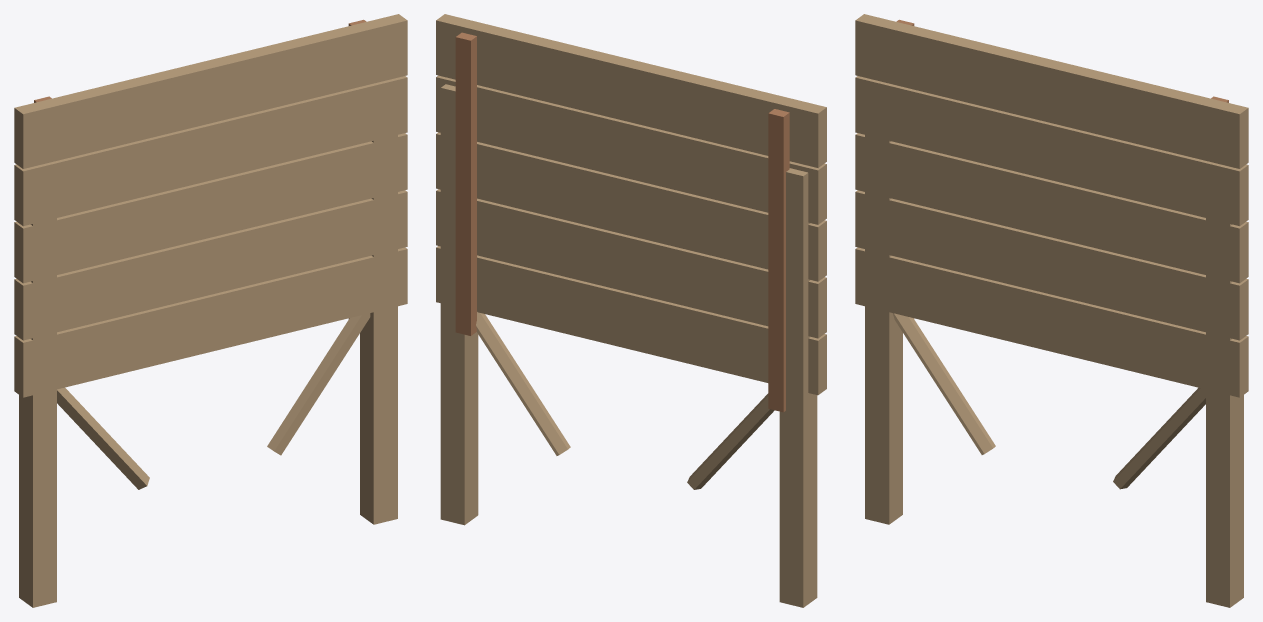
File: wipe-day-survival-island-wooden-sign-board-2a50386b__27473.glb
3 views of the same model, side by side, from view 1: azimuth 30°, elevation 25°; view 2: azimuth 150°, elevation 25°; view 3: azimuth 330°, elevation 25° (orthographic).
Parts seen in each view (by area): view 1: wooden-sign-board; view 2: wooden-sign-board; view 3: wooden-sign-board.
Boxes of the visible parts, x1,y1,x2,y2 form: wooden-sign-board: [14, 14, 407, 607]; wooden-sign-board: [436, 14, 826, 607]; wooden-sign-board: [855, 14, 1248, 607].
Size of the model in its own units: 1.76 by 2.17 by 0.1299.
